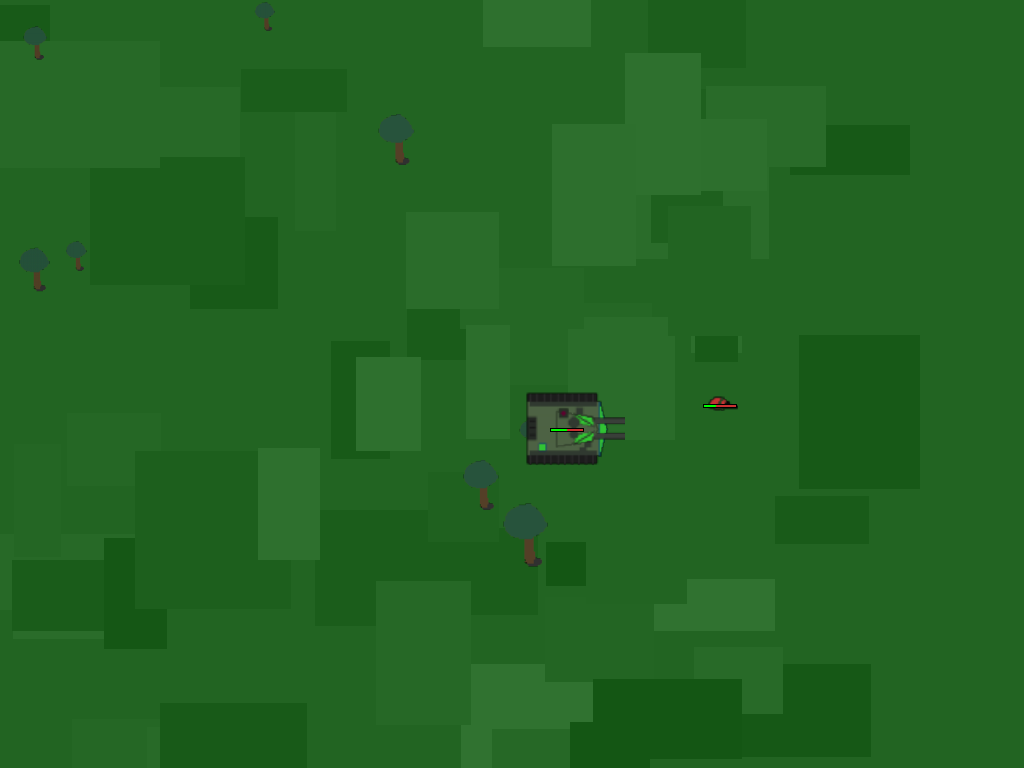MiningRig: (529, 389, 605, 465)
Sniper: (700, 383, 739, 422)
